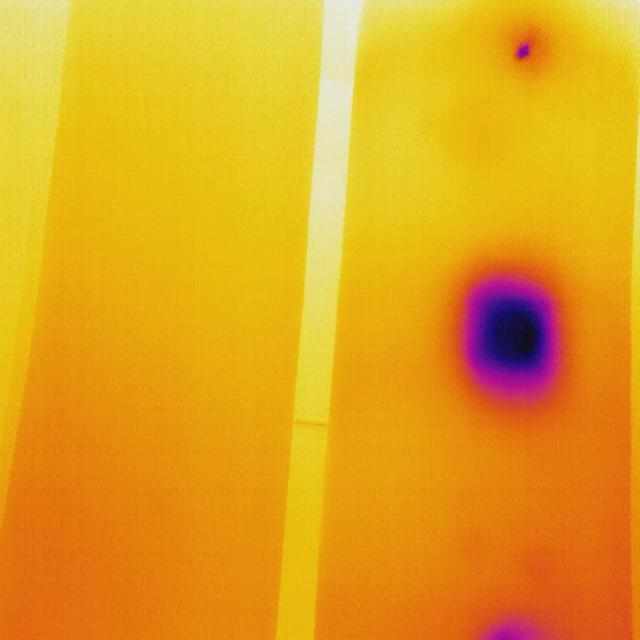leakage: (456, 272, 565, 386), (509, 36, 542, 70), (492, 622, 532, 640)
